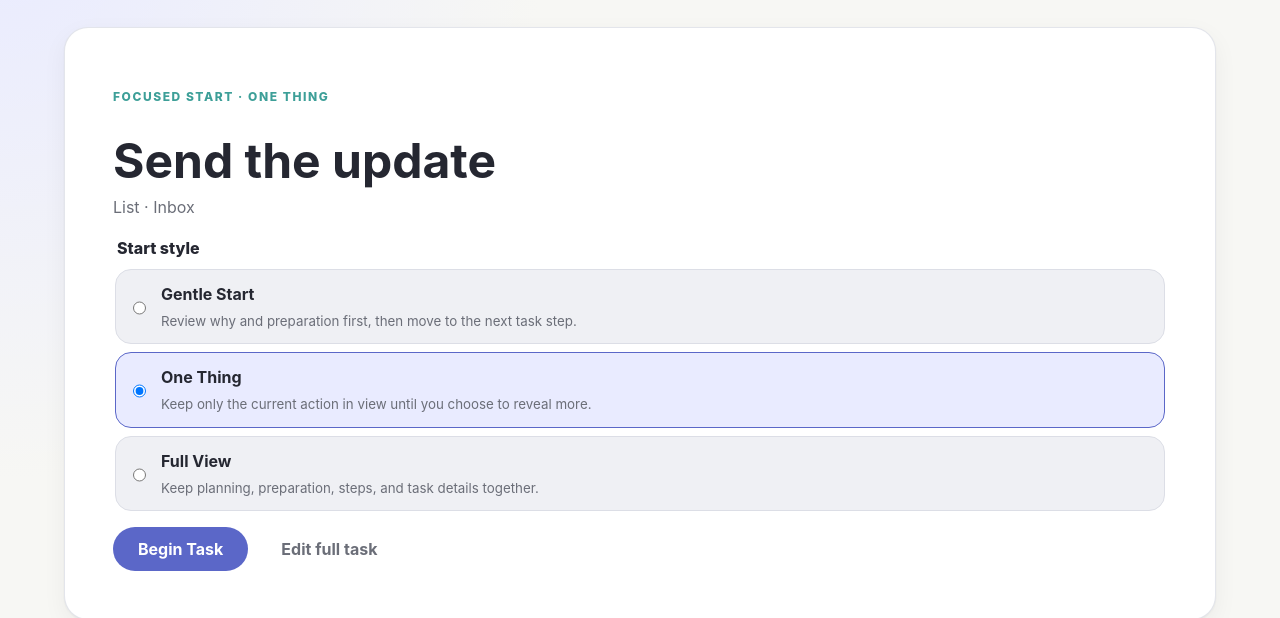
Test case: Phase 4B focused start › keeps One Thing narrow until Show Full Task is chosen
Expected: the heading "Send the update" is shown, [113,131,496,190]
Expected: the radio button labelled "One Thing" is checked, [133,369,146,413]
Click the button "Begin Task" at x=181, y=549, box [113,527,248,571]
(page scrolled)
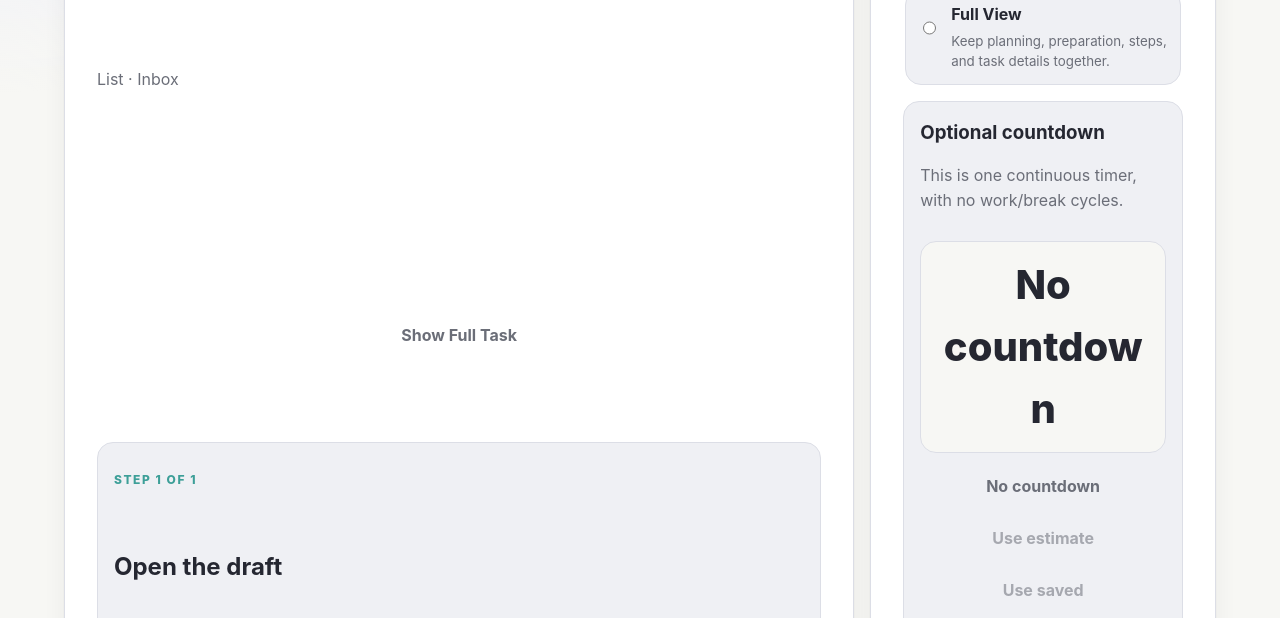
Expected: the text "People are waiting for the decision." is not shown
Now the heading "Open the draft" is shown, box [114,552,282,580]
Click the button "Show Full Task" at x=459, y=335, box [97,245,821,426]
(page scrolled)
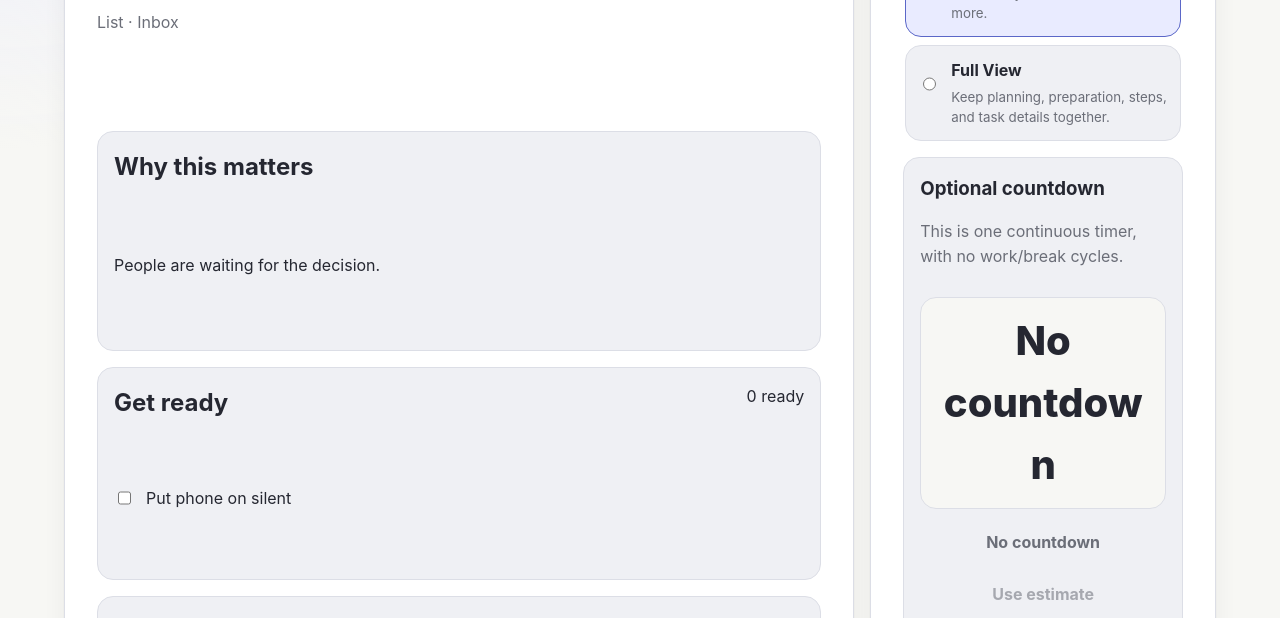
Now the text "People are waiting for the decision." is shown, box [114,255,380,275]
Now the text "Put phone on silent" is shown, box [146,486,291,510]
